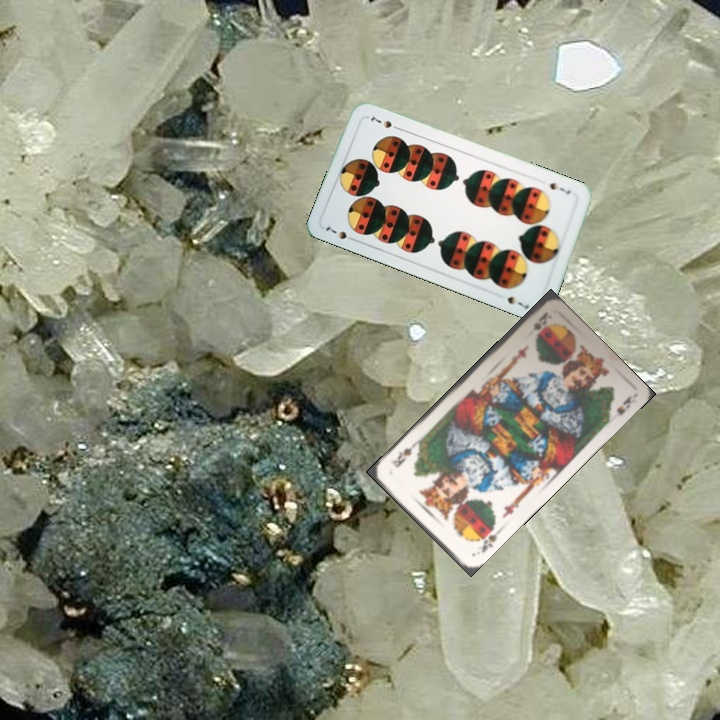S7: (321, 222, 359, 244), (545, 178, 573, 196)
SK: (474, 521, 502, 556), (529, 308, 554, 333)
